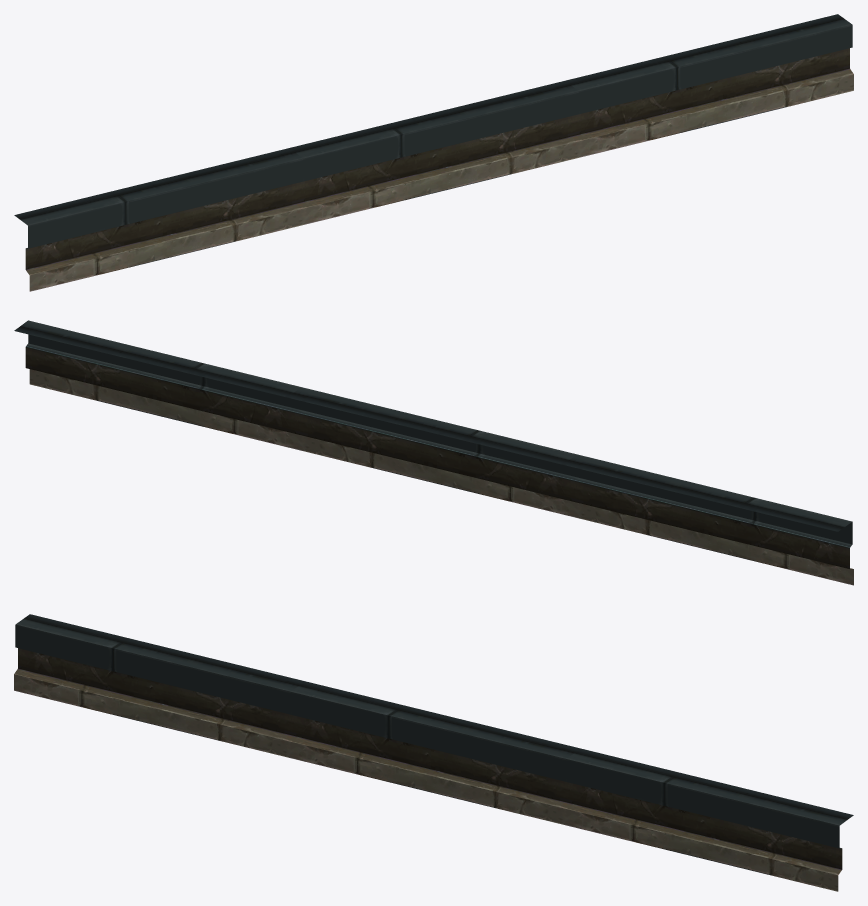
File: cs_zhucheng_fushou_002.FBX
The picture shows the model from 3 angles, top to bottom: view 1: azimuth 30°, elevation 25°; view 2: azimuth 150°, elevation 25°; view 3: azimuth 330°, elevation 25°; orthographic projection.
Parts seen in each view (by area): view 1: cs_zhucheng_fushou_002; view 2: cs_zhucheng_fushou_002; view 3: cs_zhucheng_fushou_002.
Part boxes in pixels (x1=…): cs_zhucheng_fushou_002: x1=14, y1=14, x2=853, y2=291; cs_zhucheng_fushou_002: x1=14, y1=320, x2=853, y2=585; cs_zhucheng_fushou_002: x1=14, y1=614, x2=853, y2=891.
Bounding box in the file's own units: 257 × 8.54 × 19.38.
